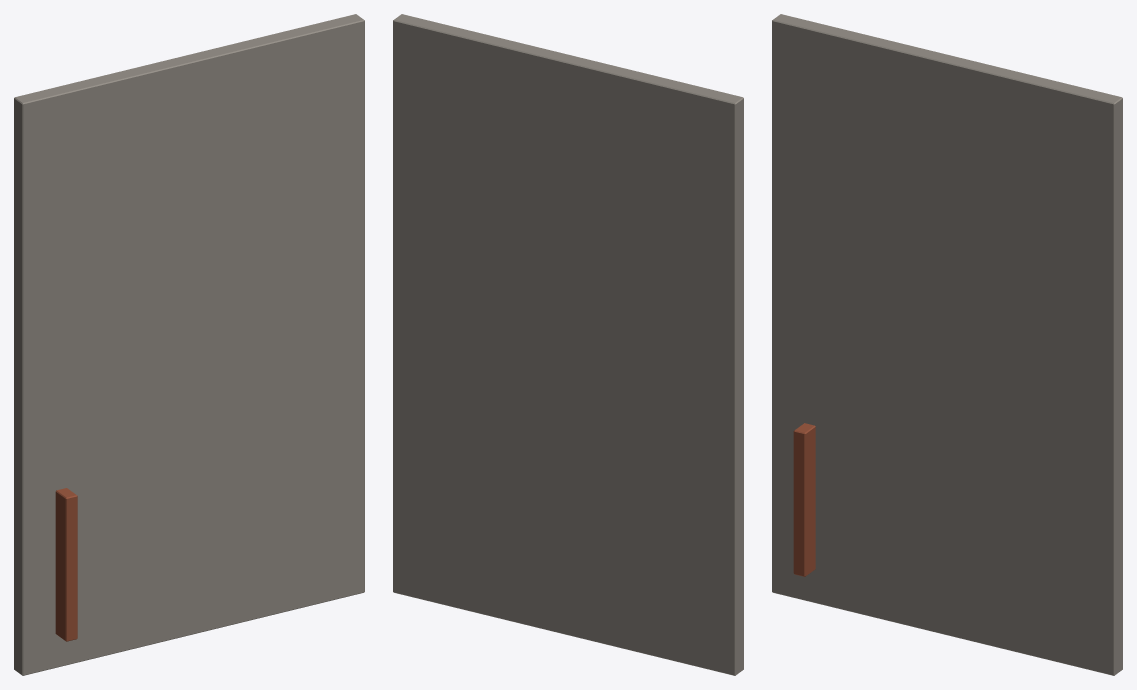
Rendered from wall_cabinet_combination_right_door.glb.
3 renders of one model, left to right at view 1: azimuth 30°, elevation 25°; view 2: azimuth 150°, elevation 25°; view 3: azimuth 330°, elevation 25°, orthographic.
Parts seen in each view (by area): view 1: wall_cabinet_combination_right_door.001; view 2: wall_cabinet_combination_right_door.001; view 3: wall_cabinet_combination_right_door.001.
Boxes of the visible parts, x1,y1,x2,y2 form: wall_cabinet_combination_right_door.001: (14,14,364,675); wall_cabinet_combination_right_door.001: (393,14,743,675); wall_cabinet_combination_right_door.001: (772,14,1122,675).
Bounding box in the file's own units: 0.3985 × 0.636 × 0.04.
